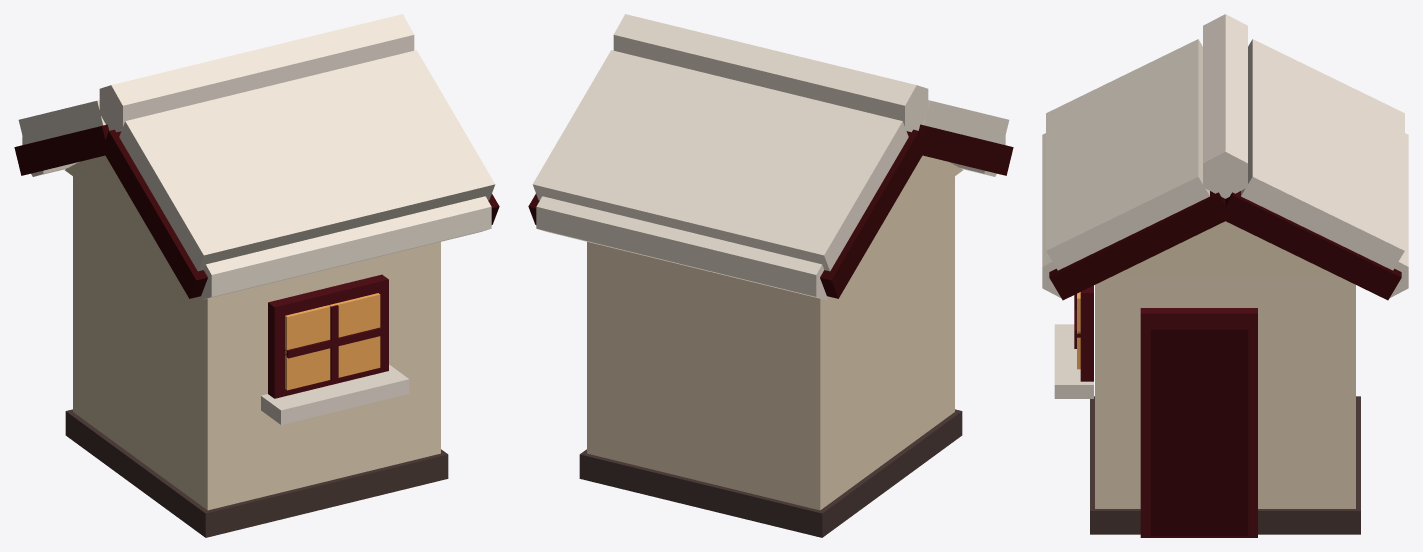
Rendered from rs_barrier_hut.glb.
3 views of the same model, side by side, from view 1: azimuth 30°, elevation 25°; view 2: azimuth 150°, elevation 25°; view 3: azimuth 270°, elevation 25° (orthographic). The views are drawn at different scales.
Parts seen in each view (by area): view 1: barrier_hut; view 2: barrier_hut; view 3: barrier_hut.
Boxes of the visible parts, bbox=[...] form: barrier_hut: bbox=[14, 14, 499, 537]; barrier_hut: bbox=[528, 14, 1013, 537]; barrier_hut: bbox=[1042, 14, 1408, 537].
Size of the model in its own units: 2.6 by 3.34 by 2.81.
